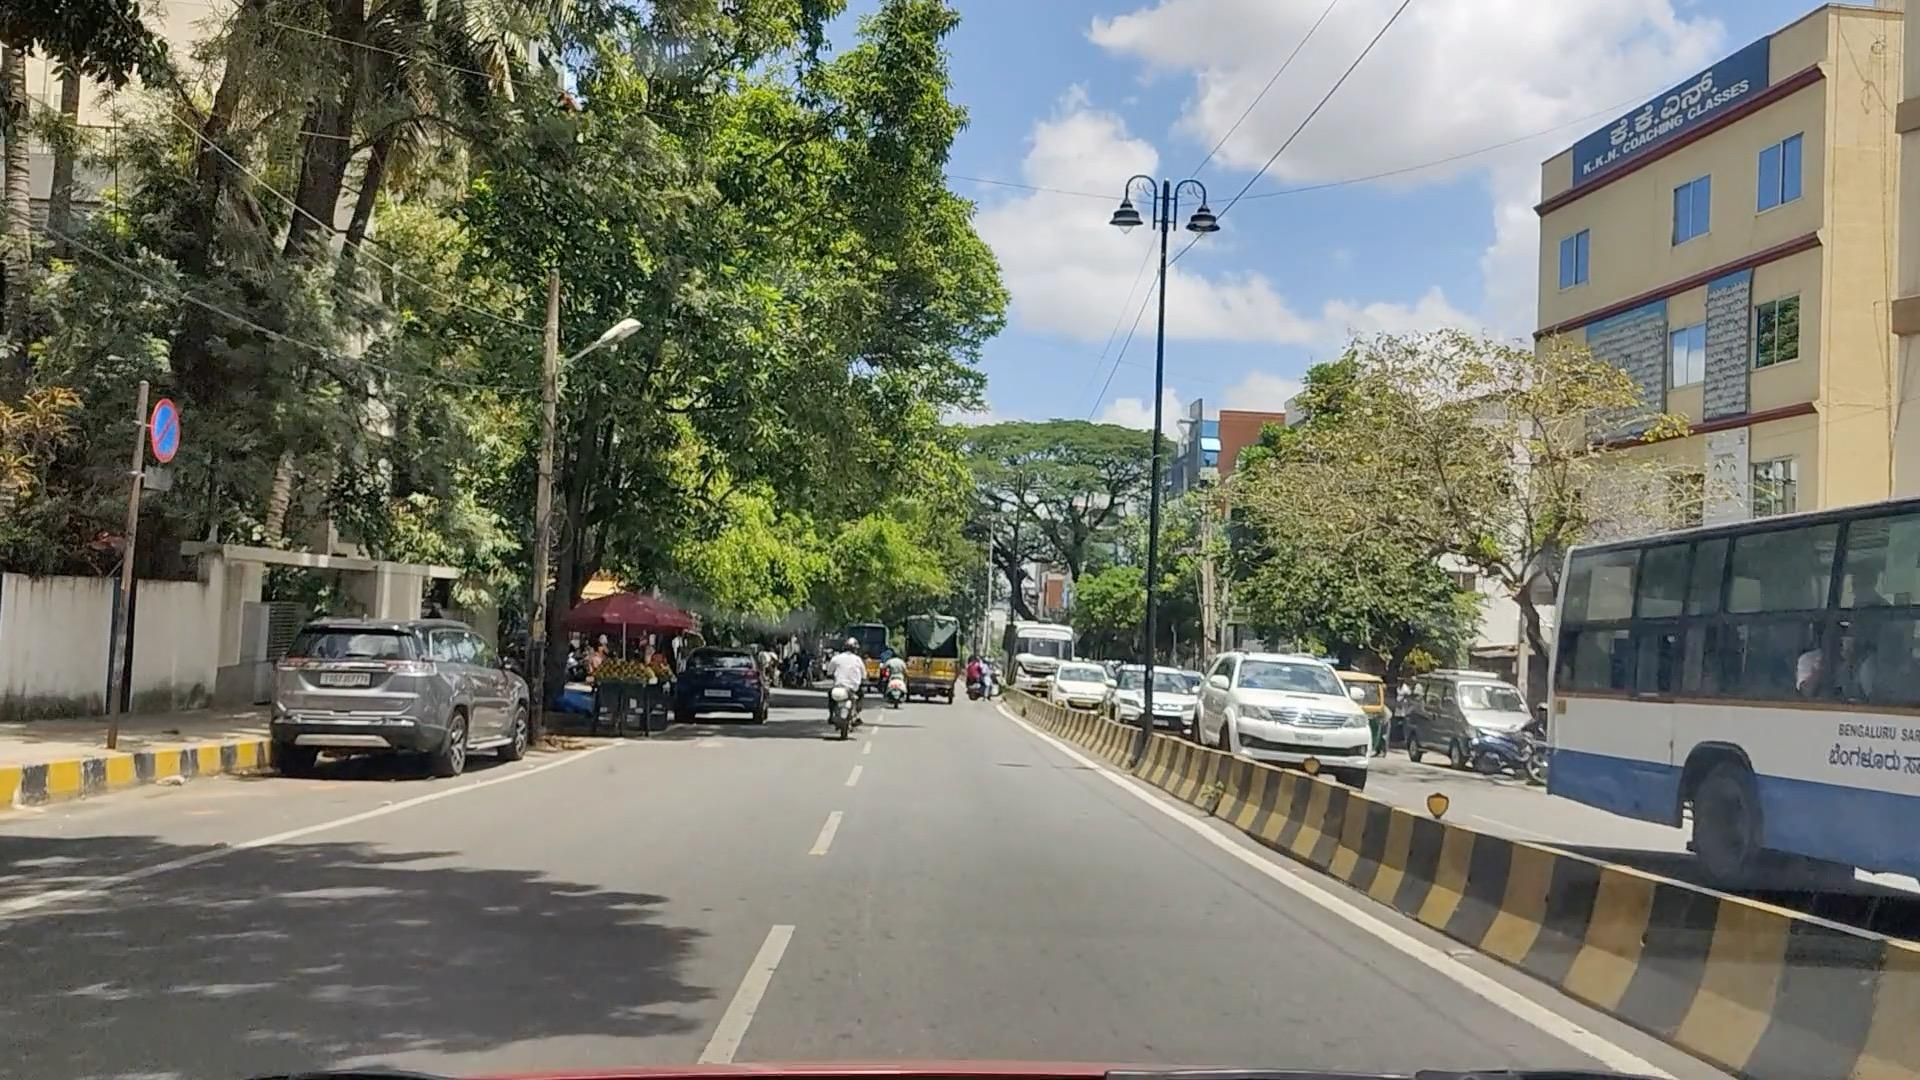LMV: (285, 630, 473, 753), (820, 620, 876, 746)
